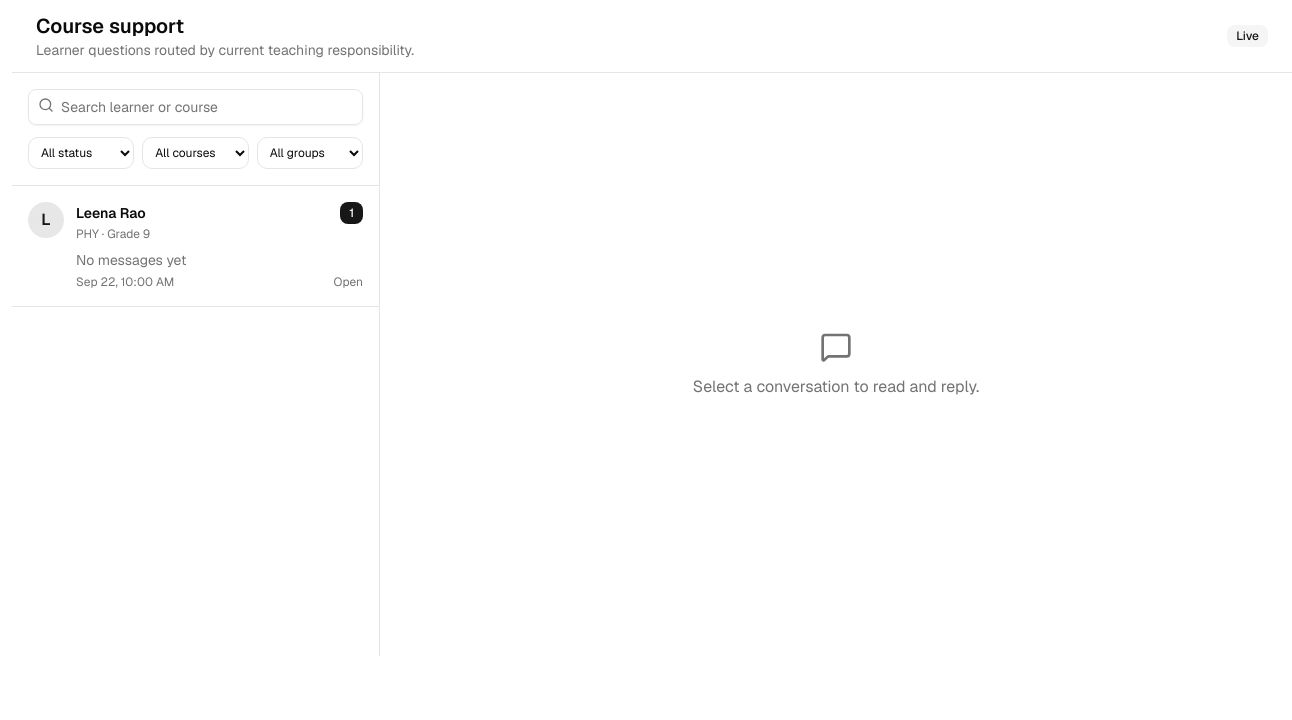
Test: SupportChatWorkspace › loads the permission-scoped inbox and selected persisted thread
Expected: the text "Leena Rao" is shown, [76,203,146,223]
Click the button with aria-label "Open conversation with Leena Rao" at (46, 220), box [12,186,379,307]
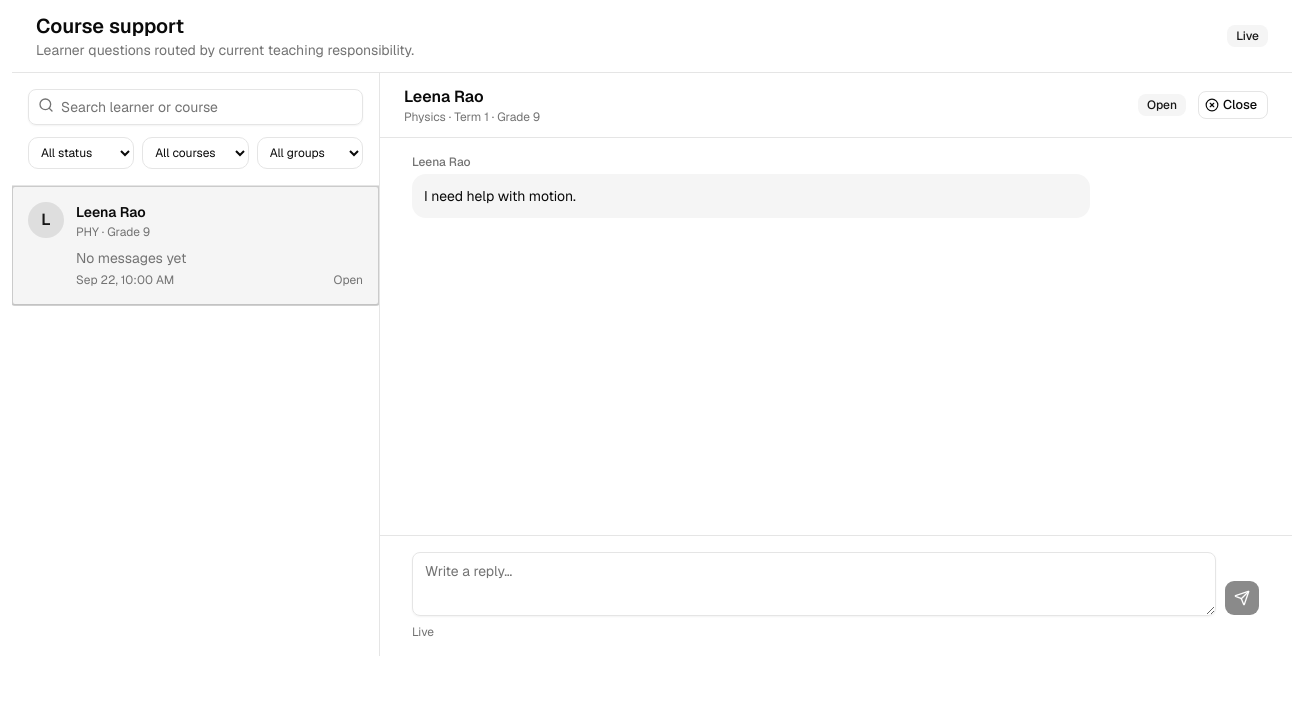
Expected: the text "Live" in the row of "Course support" is shown, [1236,28,1259,44]
Result: the text "I need help with motion." is shown at [412,174,1090,218]
